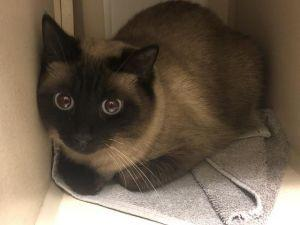siamese: (24, 3, 169, 165)
